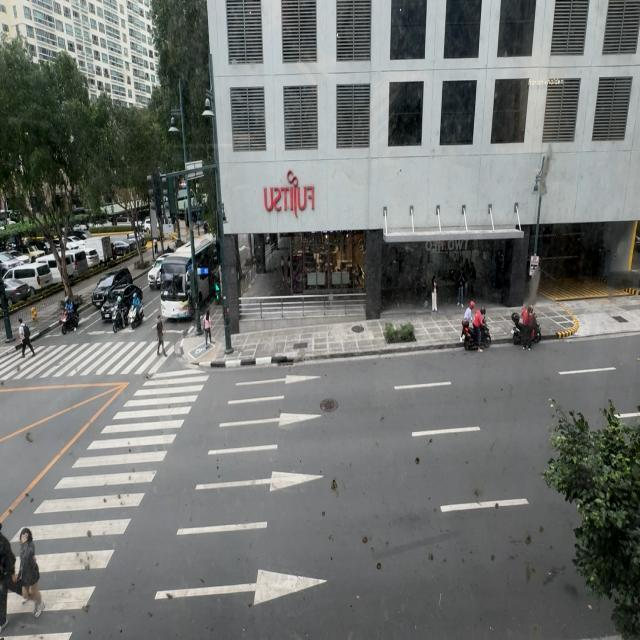waiting: (203, 310, 212, 348)
